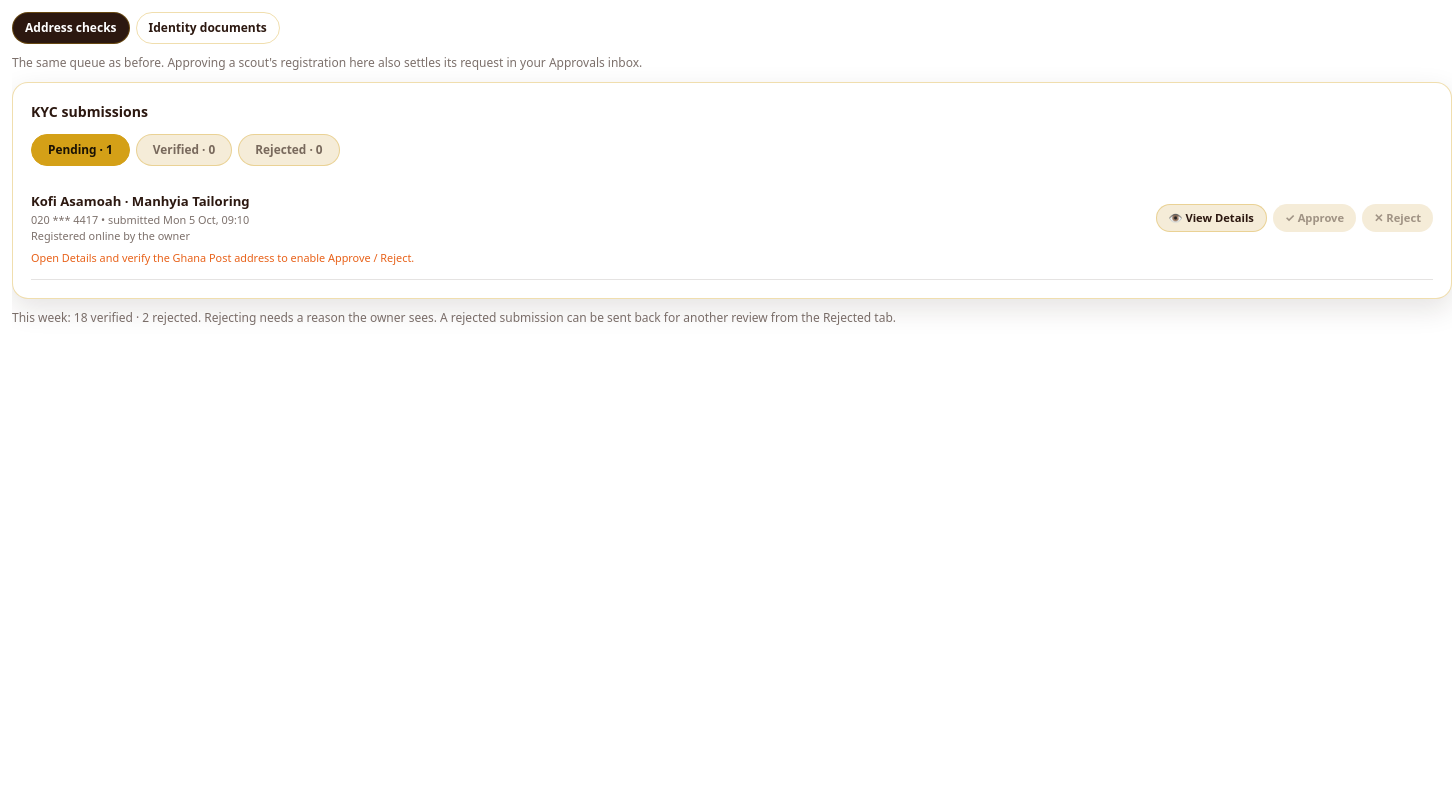
KYC queue (Operations canvas) › shows the full phone only after the recorded reveal
Click the button "👁️ View Details" at (1211, 218), box [1156, 204, 1267, 232]
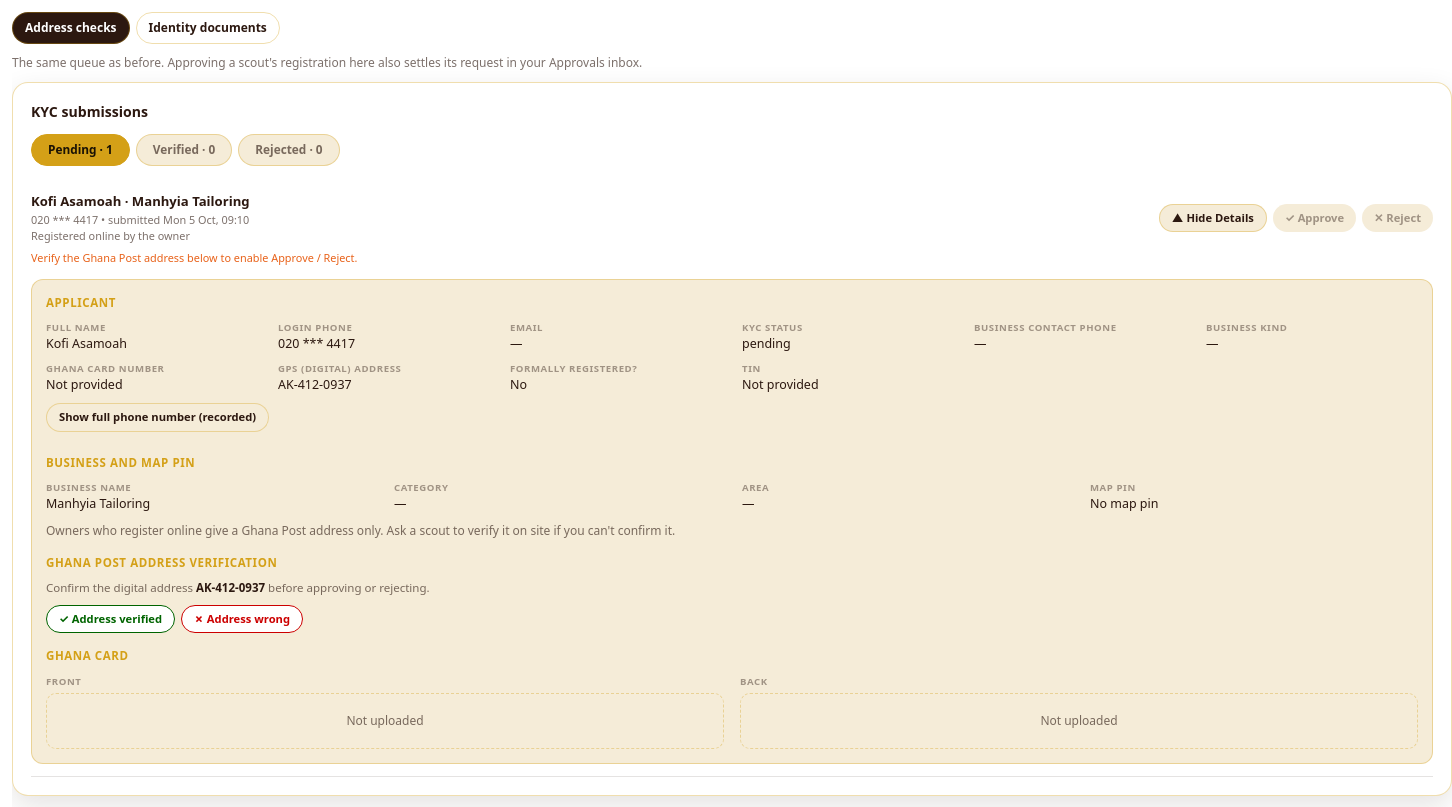
Click the button "Show full phone number (recorded)" at (158, 417), box [46, 403, 269, 432]
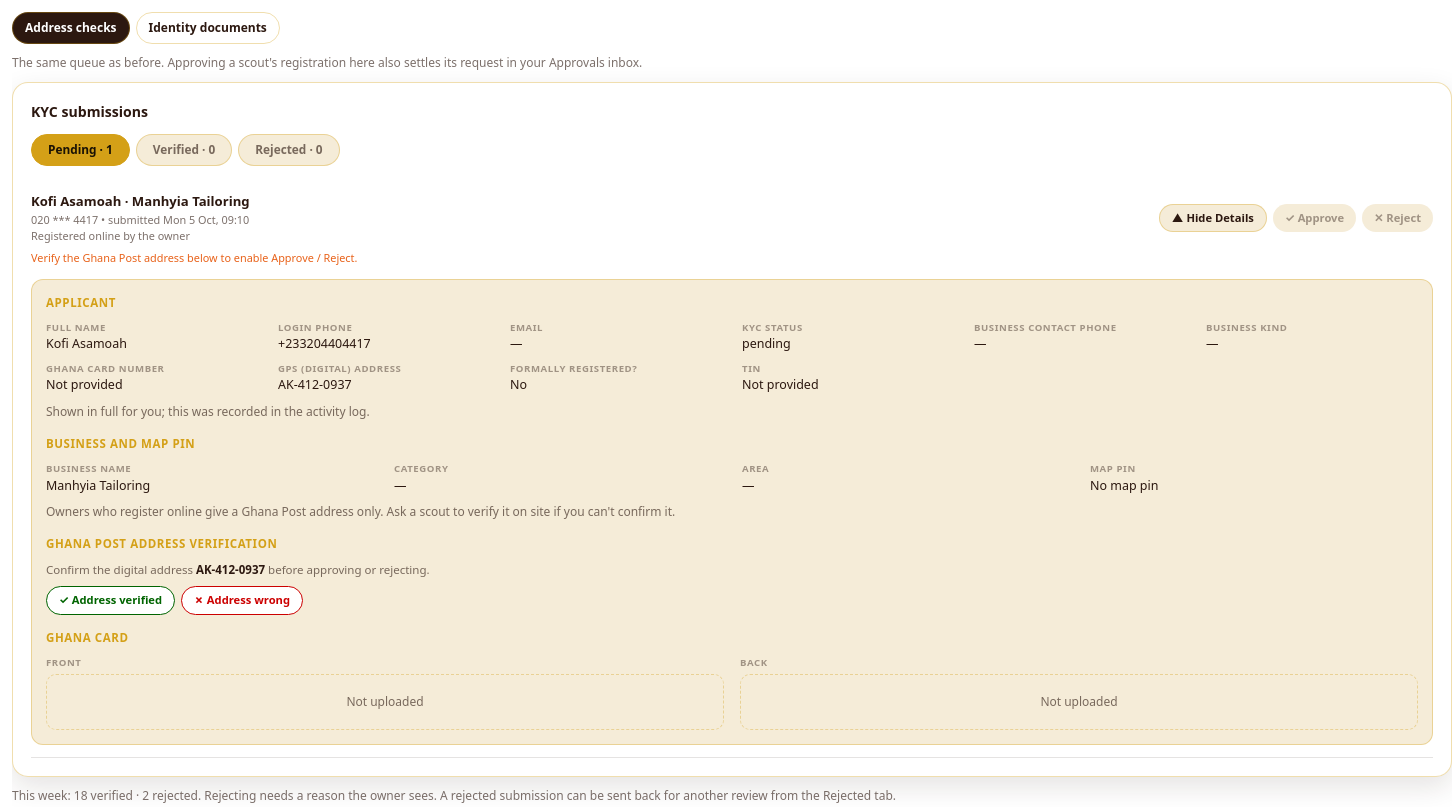
Now the text "+233204404417" is shown, box [278, 335, 371, 352]
Now the text "this was recorded in the activity log" is shown, box [46, 403, 370, 420]
